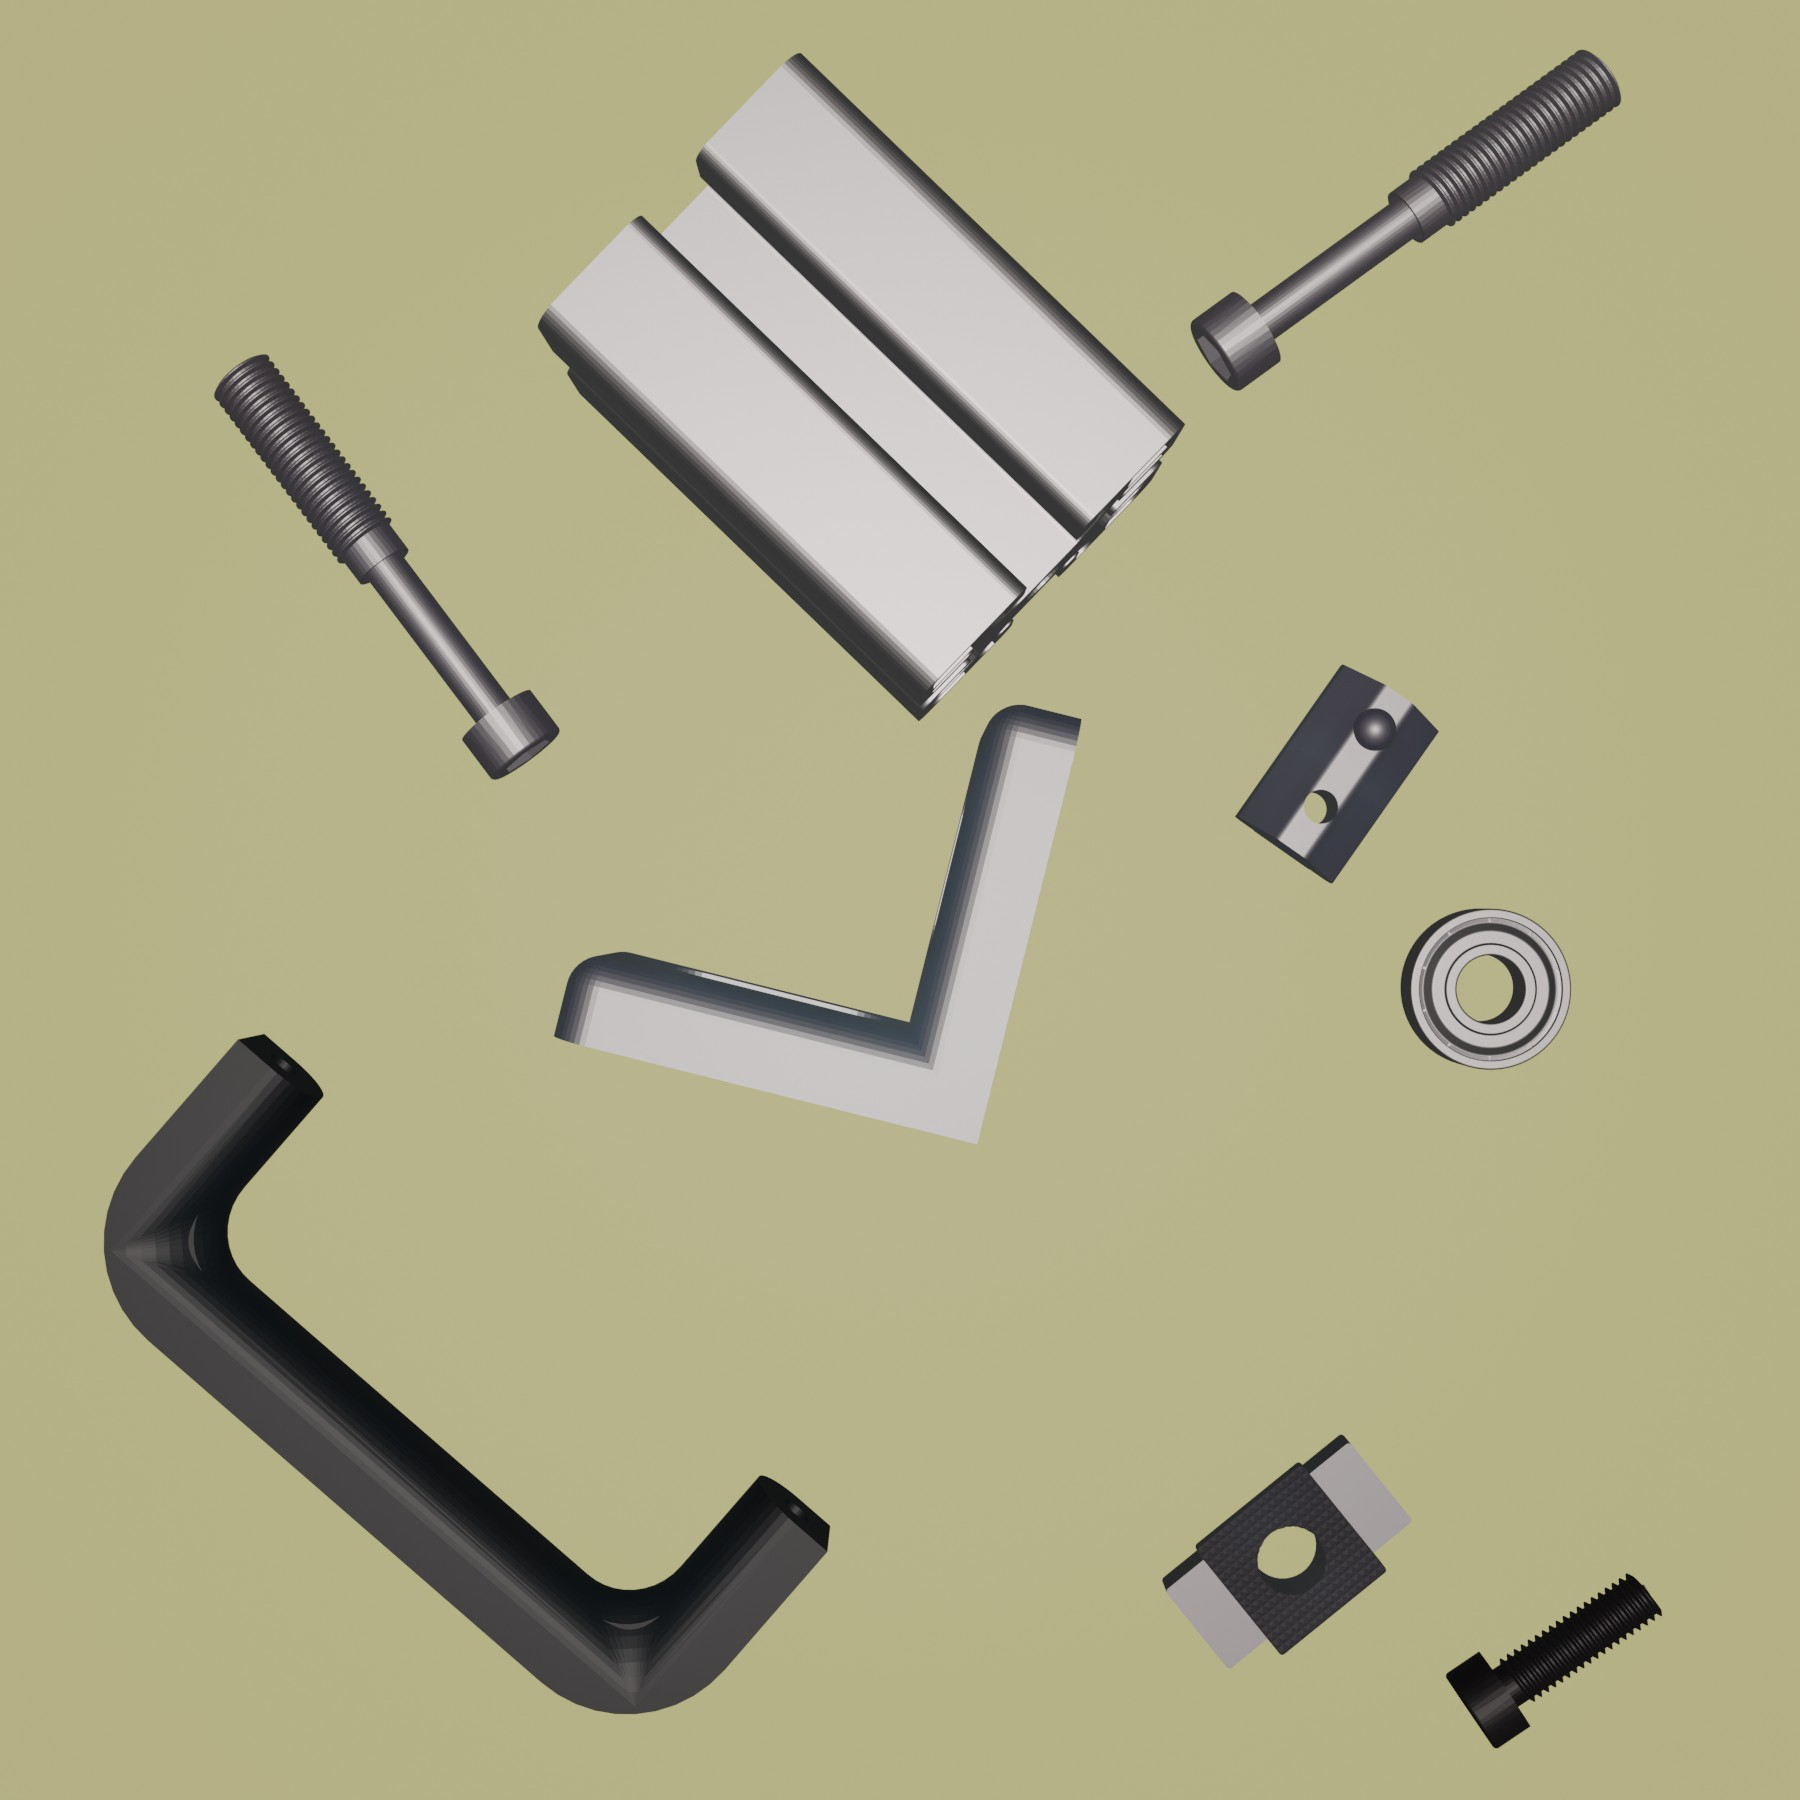Aluminium Extension: (536, 49, 1185, 725)
Ball Bearing: (1399, 905, 1573, 1071)
Multiwinkel: (551, 701, 1083, 1151)
Pull Handle: (102, 1034, 836, 1716)
Shoulder Socket Head Cap Screw: (209, 351, 560, 781), (1190, 48, 1624, 396)
Socket Head Cap Screw: (1444, 1573, 1666, 1751)
T Nut Square: (1159, 1427, 1414, 1670)
T Spring Nut: (1231, 659, 1441, 885)
